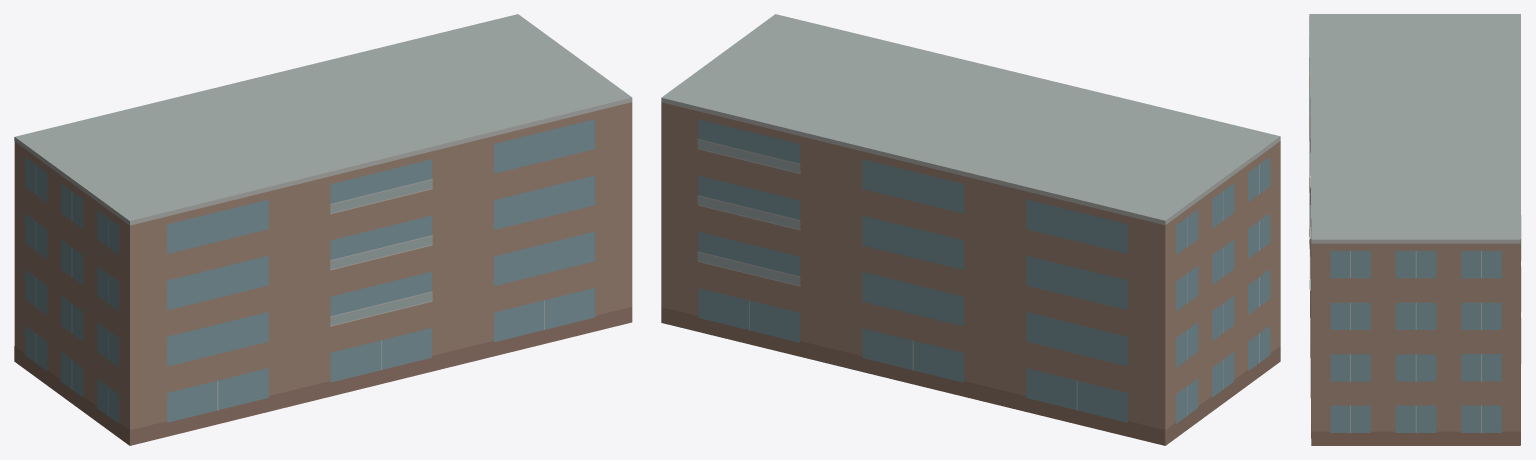
The model's file is survey-upis-32771287.glb.
3 views of the same model, side by side, from view 1: azimuth 30°, elevation 25°; view 2: azimuth 150°, elevation 25°; view 3: azimuth 270°, elevation 25° (orthographic). The views are drawn at different scales.
Visible parts, largest first — view 1: survey-upis-32771287.tmp; view 2: survey-upis-32771287.tmp; view 3: survey-upis-32771287.tmp.
Boxes of the visible parts, x1,y1,x2,y2 form: survey-upis-32771287.tmp: (14, 14, 632, 445); survey-upis-32771287.tmp: (661, 14, 1280, 445); survey-upis-32771287.tmp: (1309, 14, 1521, 445).
Size of the model in its own units: 28.62 by 12.2 by 11.38.
